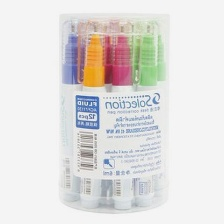book: (54, 11, 172, 216)
correction_fluid: (74, 19, 107, 210), (58, 15, 88, 202), (107, 15, 135, 210), (132, 18, 160, 207)
